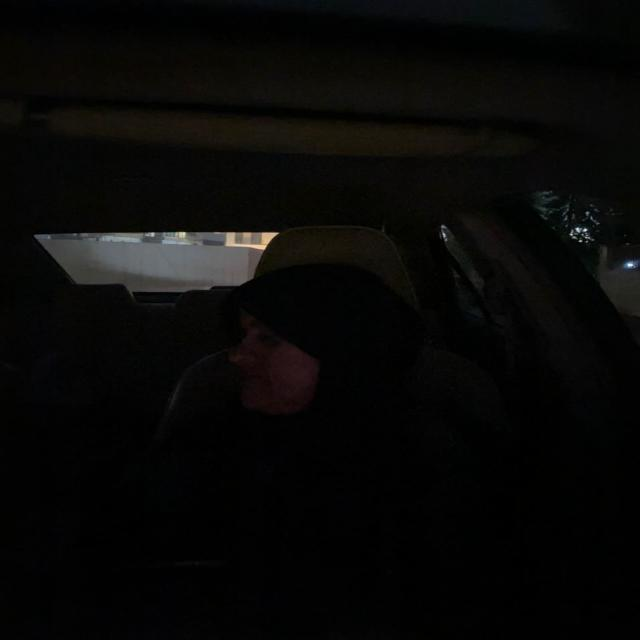LeftRight: (216, 256, 414, 426)
